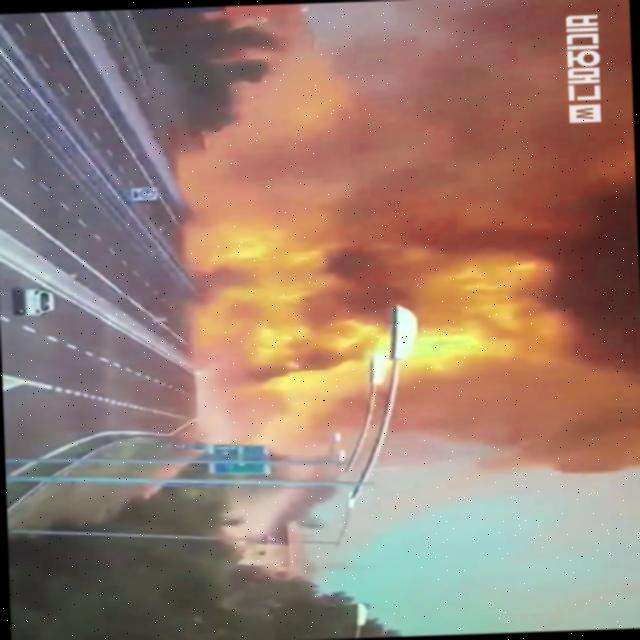explosion: (66, 0, 640, 561)
